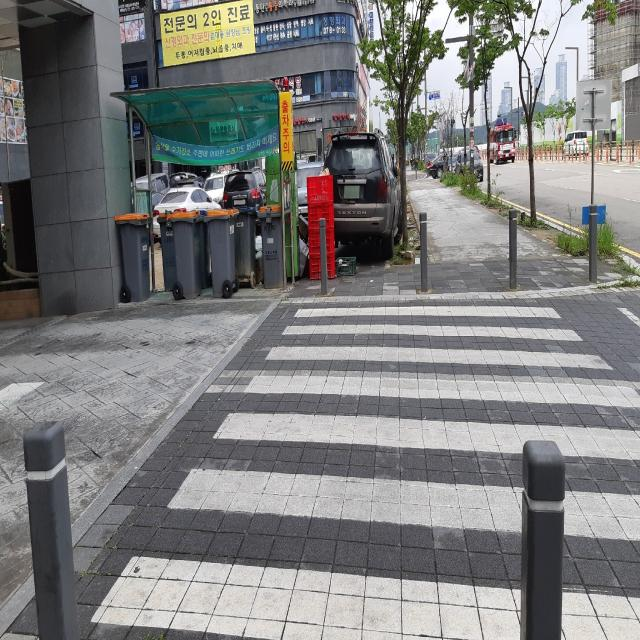횡단보도: (88, 302, 640, 640)
